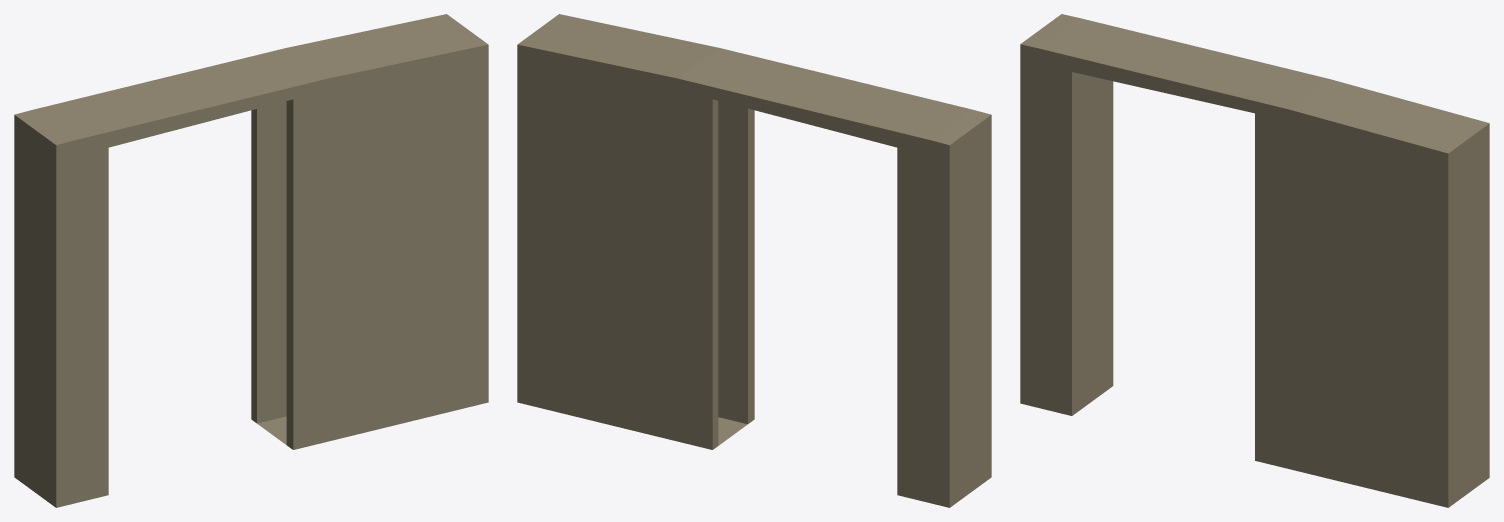
Rendered from SecondaryDoorFrame.glb.
The picture shows the model from 3 angles, left to right: view 1: azimuth 30°, elevation 25°; view 2: azimuth 150°, elevation 25°; view 3: azimuth 330°, elevation 25°; orthographic projection.
Parts seen in each view (by area): view 1: Frame.010; view 2: Frame.010; view 3: Frame.010.
Boxes of the visible parts, x1=… form: Frame.010: x1=14, y1=14, x2=488, y2=507; Frame.010: x1=517, y1=14, x2=991, y2=507; Frame.010: x1=1020, y1=14, x2=1489, y2=507.
Bounding box in the file's own units: 2.6 × 2.08 × 0.4351.
